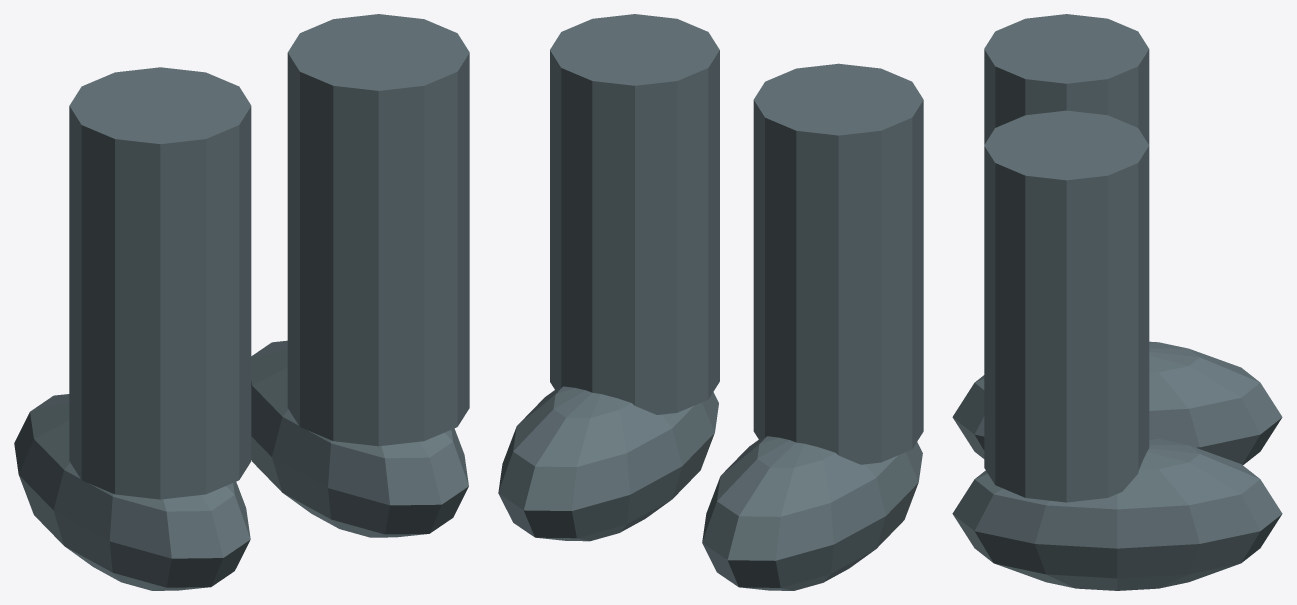
File: EQ-BOOTS.glb
3 renders of one model, left to right at view 1: azimuth 30°, elevation 25°; view 2: azimuth 150°, elevation 25°; view 3: azimuth 270°, elevation 25°, orthographic. The views are drawn at different scales.
Parts seen in each view (by area): view 1: shaft (×2), boot (×2); view 2: shaft (×2), boot (×2); view 3: shaft (×2), boot (×2).
Part boxes in pixels (x1,y1,x2,y2): shaft (×2): (69, 14, 469, 499); boot (×2): (14, 340, 468, 590); shaft (×2): (550, 14, 923, 464); boot (×2): (498, 386, 922, 590); shaft (×2): (984, 14, 1149, 502); boot (×2): (952, 341, 1282, 590).
Size of the model in its own units: 0.31 by 0.38 by 0.26.
